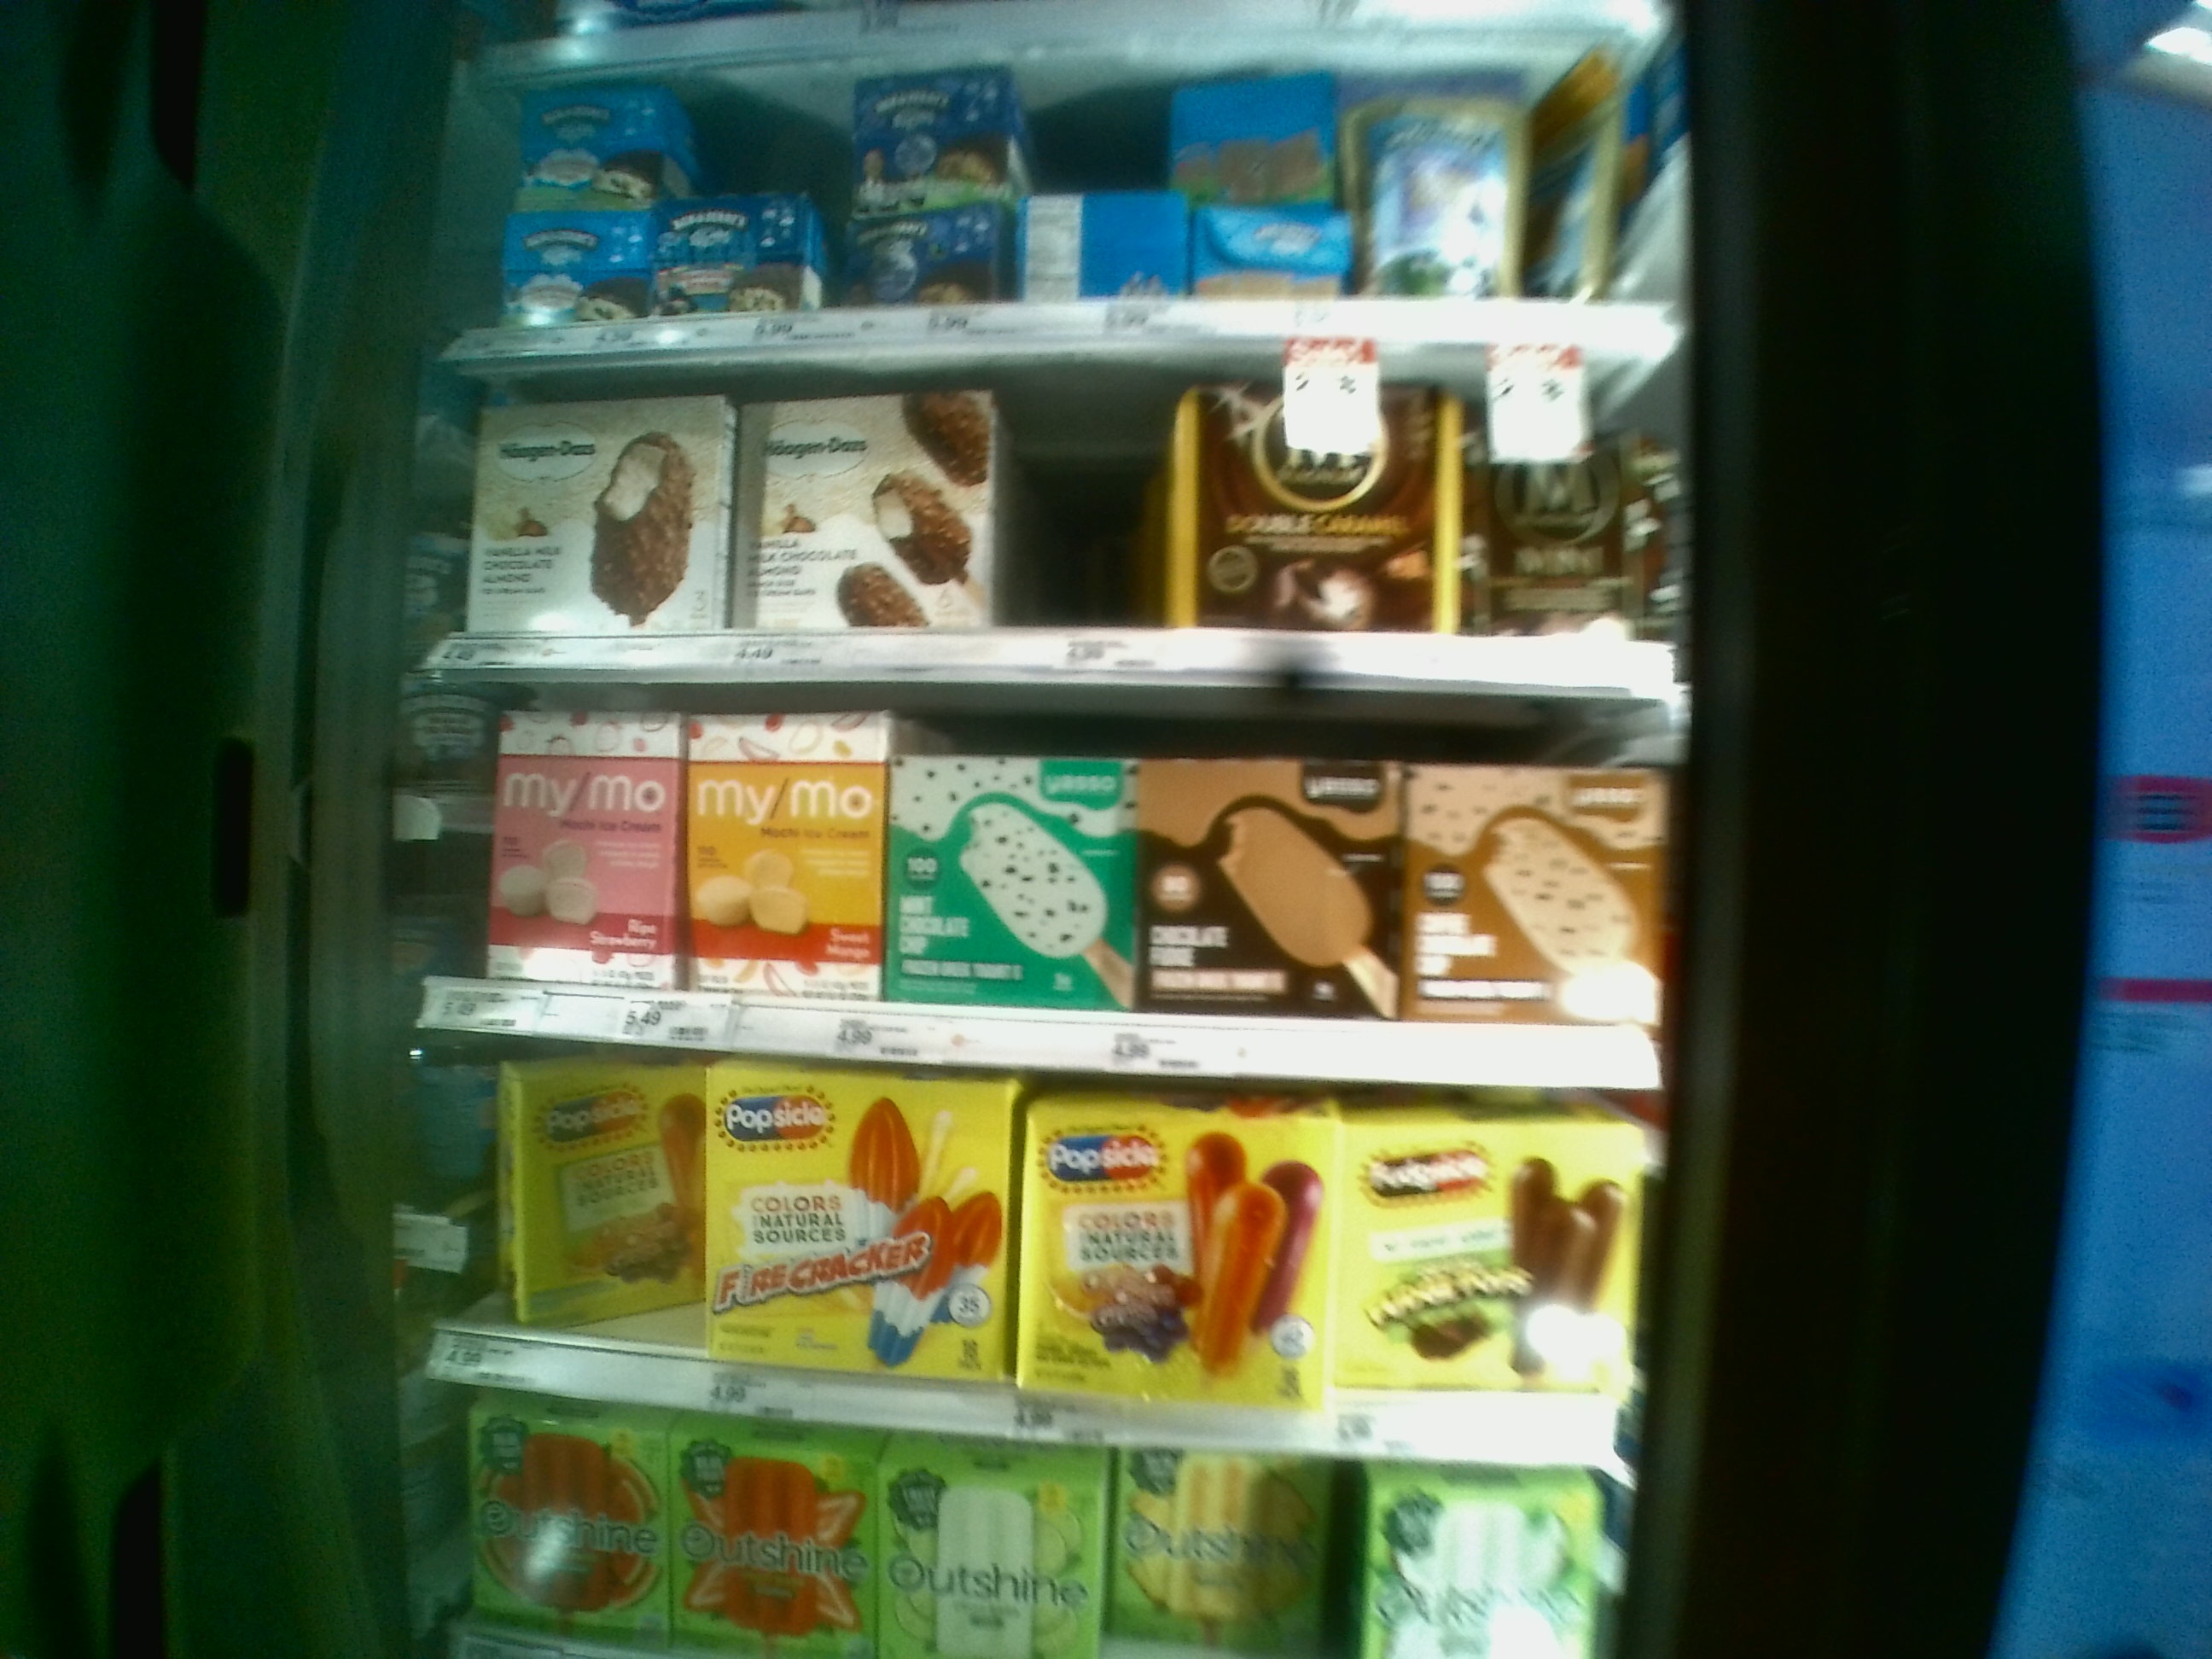shelf: (411, 1030, 1639, 1464), (432, 681, 1663, 1082), (434, 368, 1691, 687)
